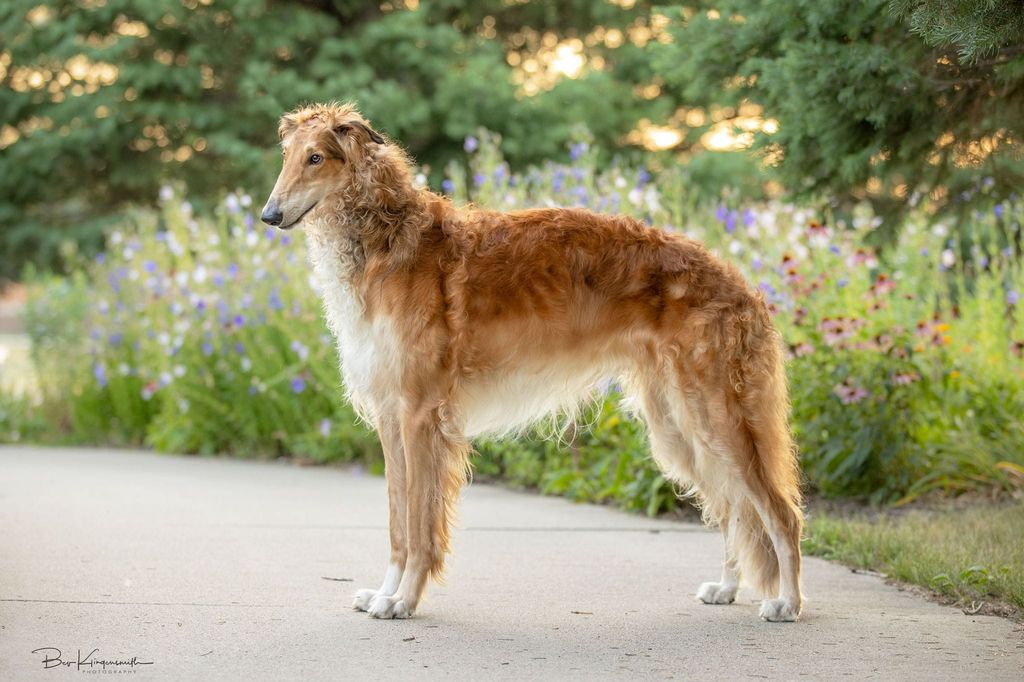borzoi: (246, 96, 831, 629)
